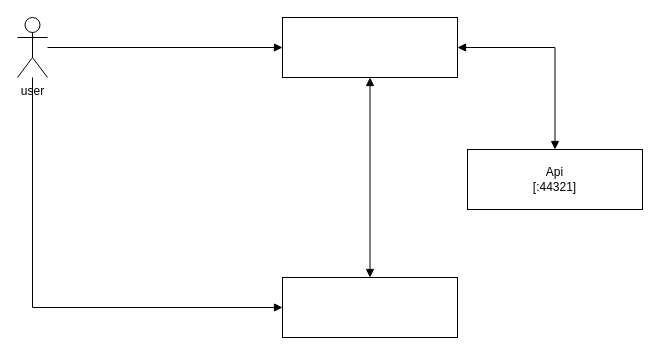
This 660x355 diagram has some shape labels left out. Each missing label, with the centre of its shape:
"BlazorId_App [:44328]" goes at [370,47].
"IdentityServerAspNetIdentity [:44387]" goes at [370,307].
